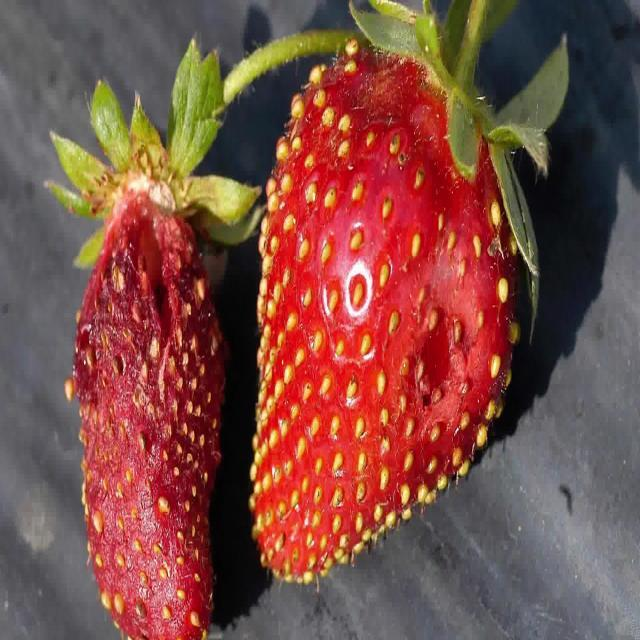Mancha negra Antracnosis: (252, 22, 534, 577), (66, 180, 232, 624)
